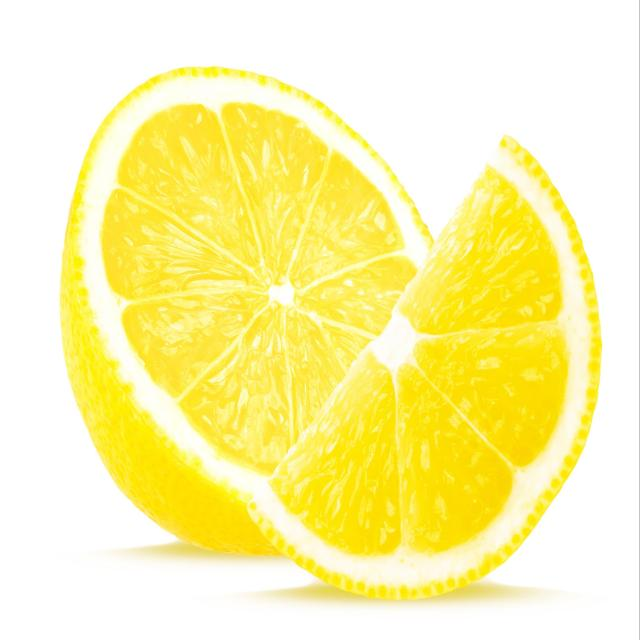lemon: (51, 57, 609, 605)
